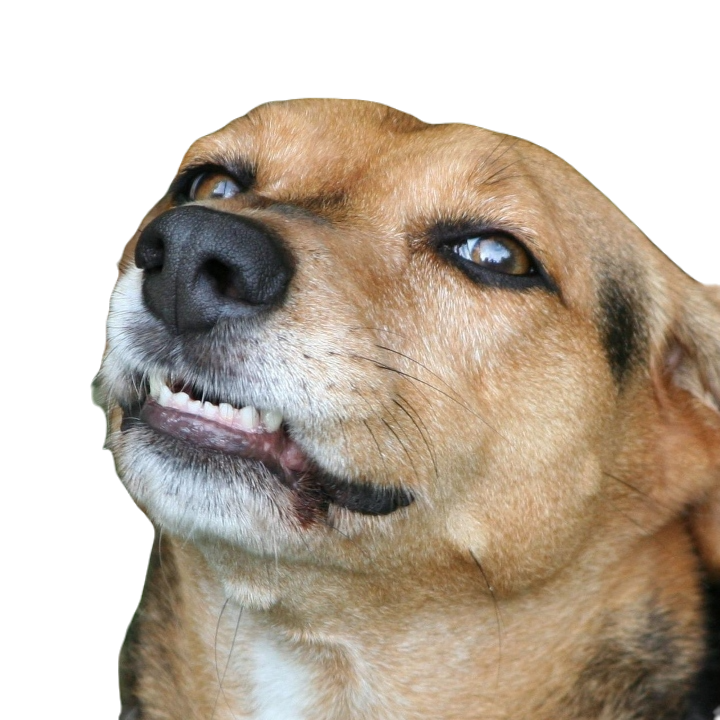Dog: (87, 96, 719, 719)
